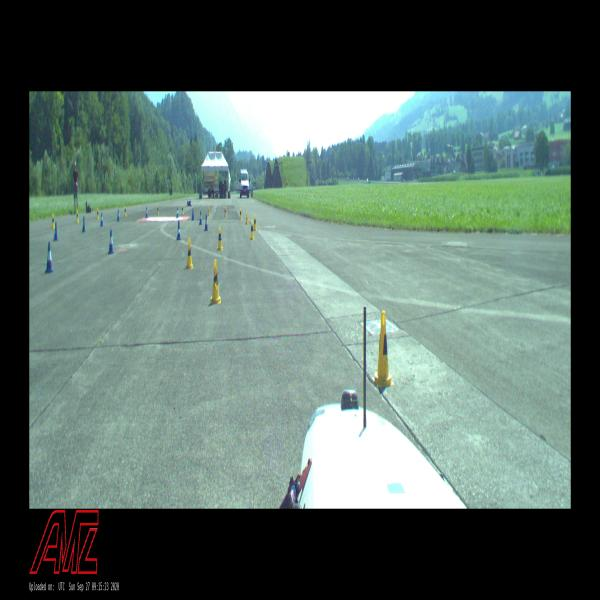blue_cone: (45, 242, 54, 273), (108, 230, 114, 254), (204, 214, 209, 231), (177, 220, 181, 240), (54, 222, 58, 240), (82, 216, 86, 232), (199, 211, 203, 225), (100, 213, 104, 226), (117, 209, 120, 221), (176, 207, 179, 218), (146, 207, 148, 218), (192, 209, 194, 220)
yellow_cone: (372, 311, 395, 387), (210, 259, 222, 304), (186, 237, 193, 269), (217, 226, 223, 251), (250, 220, 255, 240), (254, 214, 258, 231), (245, 211, 249, 224), (96, 208, 100, 219), (52, 214, 55, 228), (239, 207, 242, 220), (76, 209, 79, 222), (224, 206, 227, 217), (181, 204, 184, 215), (124, 206, 127, 216), (157, 205, 160, 214), (208, 205, 210, 216)
